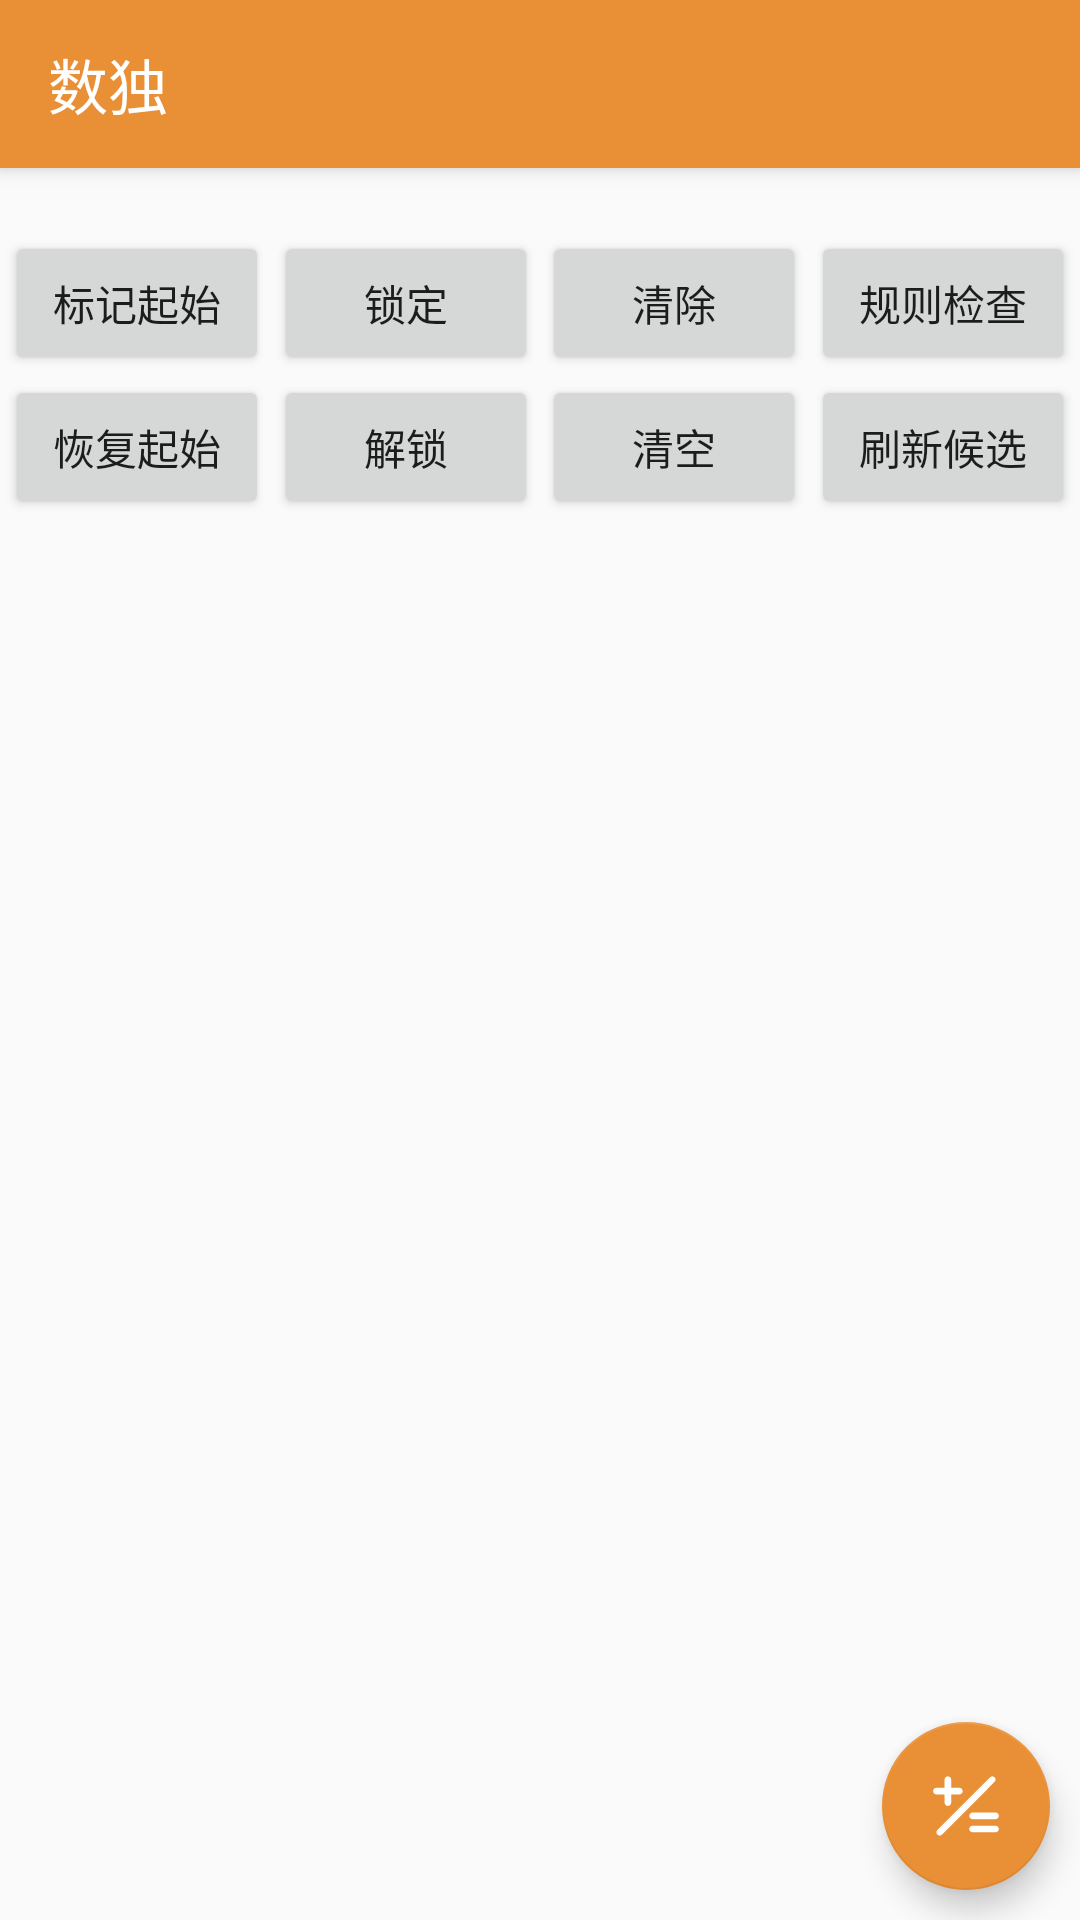

Icon click points for this 1080px x 1920px phone screenshot, format point (x, y):
计算: point (966, 1806)
